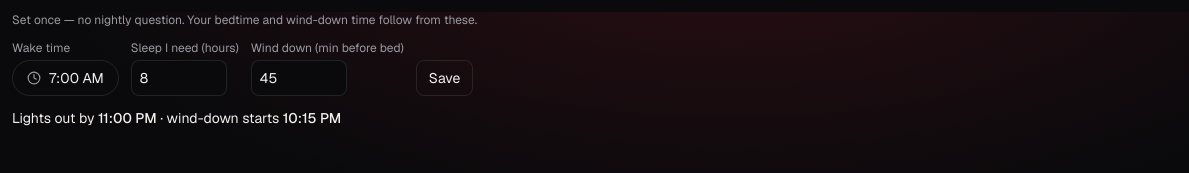
Test: WindDownPlanSettings › saves the inputs in minutes and reports the derived times
Click the button "Save" at (445,78), box [416,60,473,96]
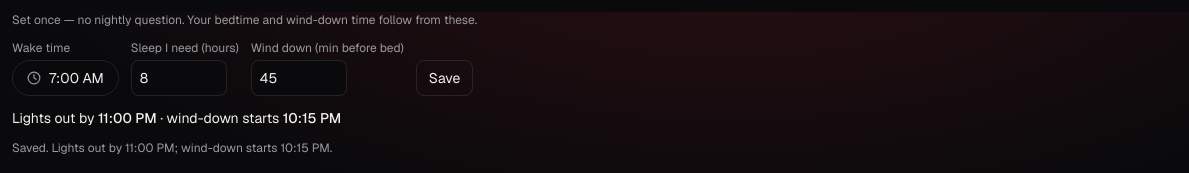
Now the text "Saved. Lights out by 11:00 PM; wind-down starts 10:15 PM." is shown, box [12,140,332,156]
